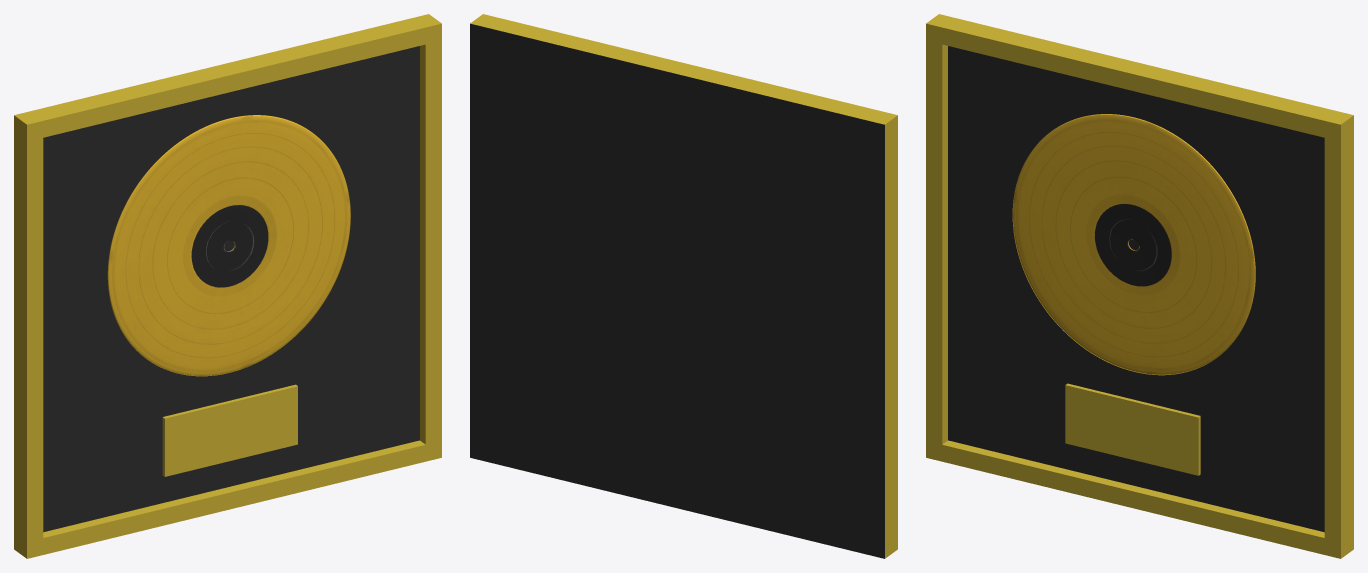
The model's file is Golden Record Frame.fbx.
The picture shows the model from 3 angles, left to right: view 1: azimuth 30°, elevation 25°; view 2: azimuth 150°, elevation 25°; view 3: azimuth 330°, elevation 25°; orthographic projection.
Visible parts, largest first — view 1: Golden Record Frame, Golden Record, Golden Record Plate; view 2: Golden Record Frame; view 3: Golden Record Frame, Golden Record, Golden Record Plate.
Part boxes in pixels (box(x1,y1,x2,y2)): Golden Record Frame: box(14, 14, 441, 558); Golden Record: box(107, 115, 350, 376); Golden Record Plate: box(162, 384, 297, 476); Golden Record Frame: box(470, 14, 897, 558); Golden Record Frame: box(926, 14, 1353, 558); Golden Record: box(1012, 114, 1255, 375); Golden Record Plate: box(1065, 383, 1200, 475).
Bounding box in the file's own units: 156 × 156 × 8.5.
